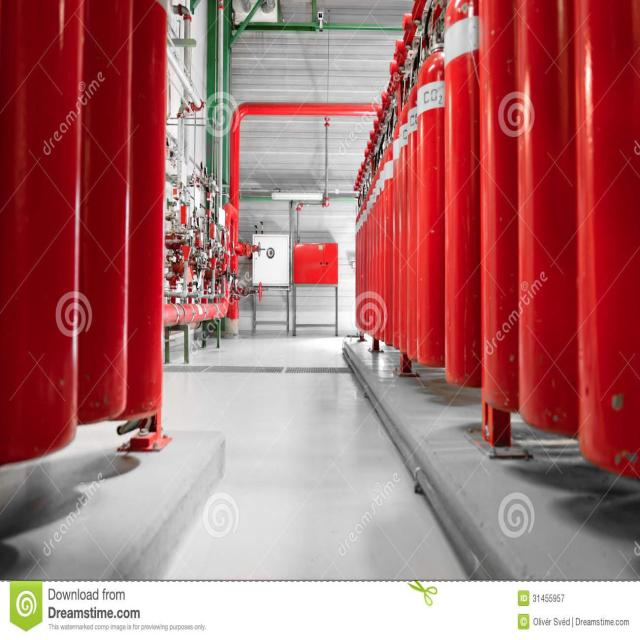fire_extinguisher: (30, 0, 166, 432), (438, 0, 574, 402), (22, 0, 132, 454), (478, 0, 596, 420), (512, 0, 618, 443), (0, 0, 86, 478), (576, 0, 640, 493), (415, 0, 478, 383)
